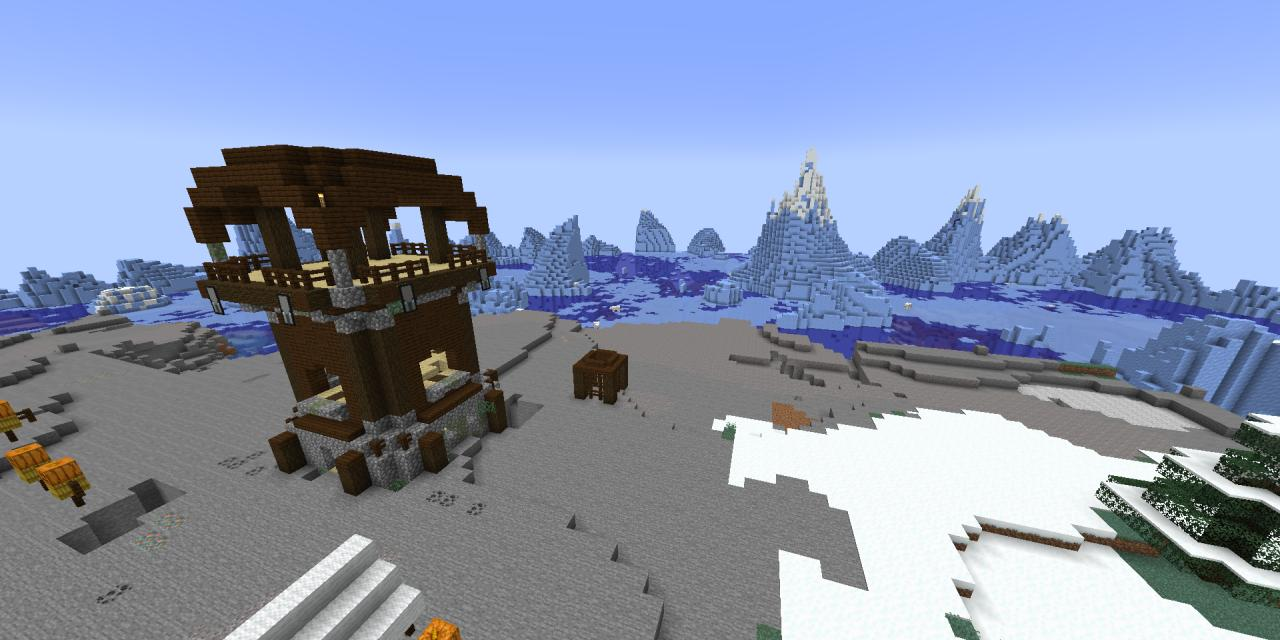pillager outpost: (177, 133, 537, 501)
